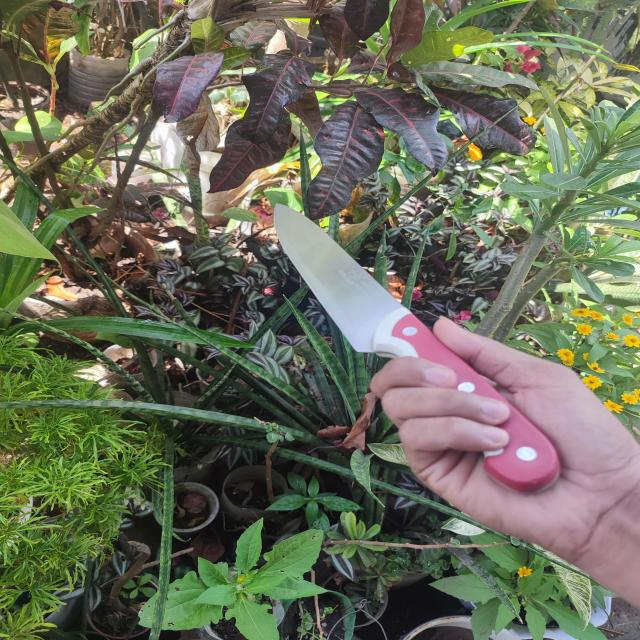knife: (270, 202, 559, 492)
